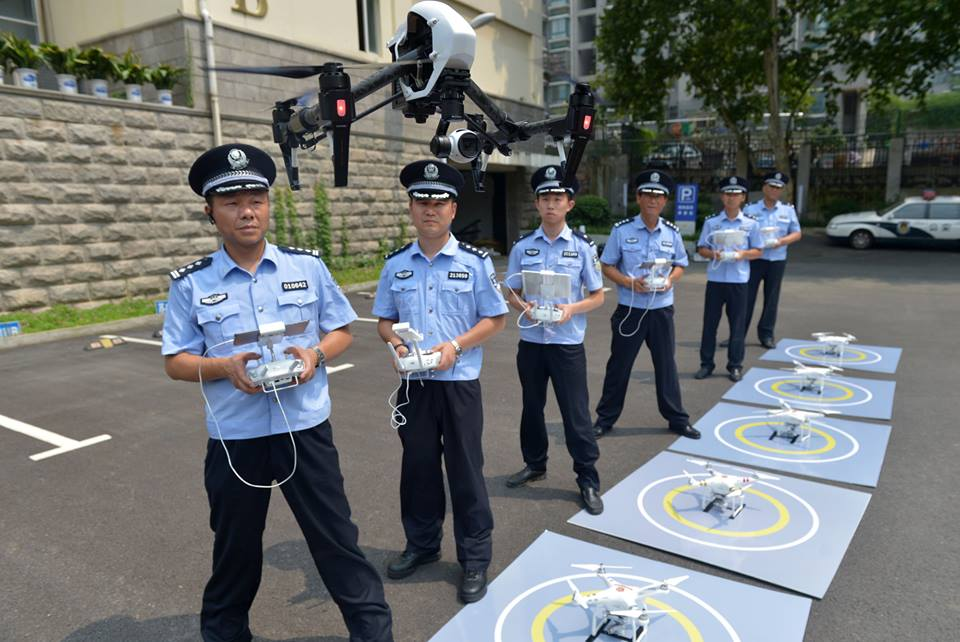drone: (196, 1, 620, 192), (560, 562, 693, 642), (674, 458, 783, 520), (763, 402, 842, 445), (780, 357, 848, 397), (807, 327, 864, 362)
person: (154, 137, 396, 642), (373, 159, 508, 617), (504, 168, 611, 520), (595, 168, 706, 445), (698, 162, 755, 381), (739, 171, 807, 351)
